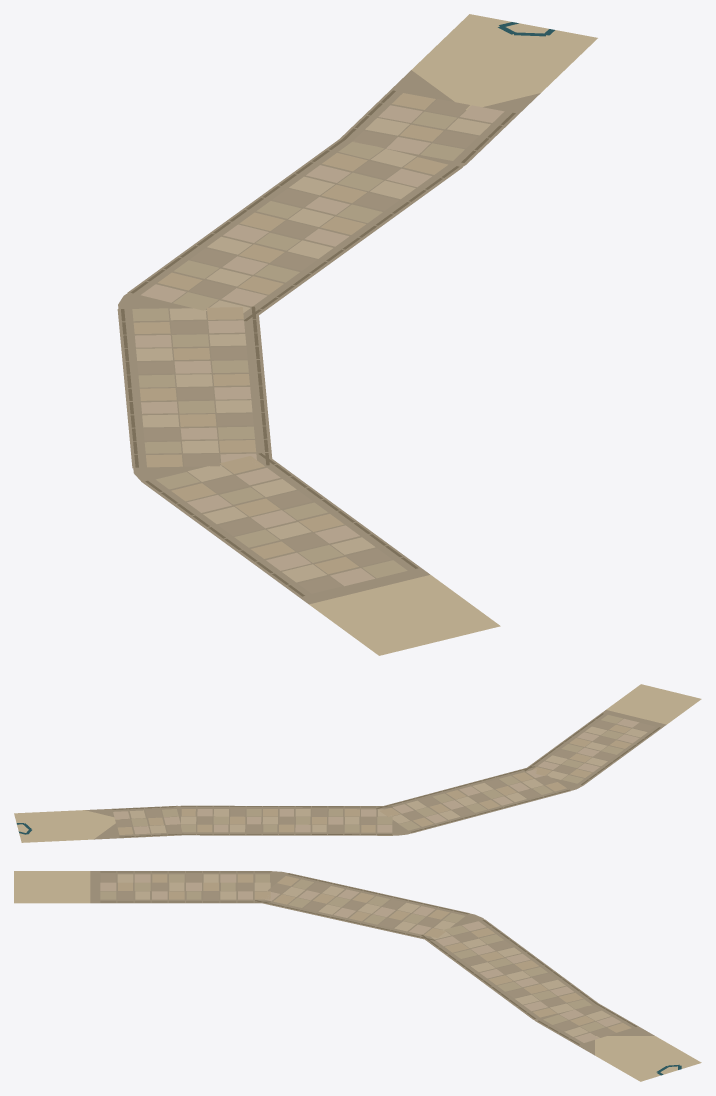
Rendered from route-def-steps_n-walk.glb.
3 views of the same model, one above another, from view 1: azimuth 30°, elevation 25°; view 2: azimuth 150°, elevation 25°; view 3: azimuth 270°, elevation 25° (orthographic). The views are drawn at different scales.
Visible parts, largest first — view 1: Surveyed floor · route-def-steps_n-walk, Water Gate to Jar Steps / #C2AE8D, Water Gate to Jar Steps / #C7B399, Water Gate to Jar Steps / #AE9D84, Water Gate to Jar Steps / #BDAD8E, Water Gate to Jar Steps / #C9B798, Water Gate to Jar Steps / #85775D; view 2: Surveyed floor · route-def-steps_n-walk, Water Gate to Jar Steps / #C7B399, Water Gate to Jar Steps / #C2AE8D, Water Gate to Jar Steps / #BDAD8E, Water Gate to Jar Steps / #AE9D84, Water Gate to Jar Steps / #C9B798, Water Gate to Jar Steps / #85775D; view 3: Surveyed floor · route-def-steps_n-walk, Water Gate to Jar Steps / #C2AE8D, Water Gate to Jar Steps / #C7B399, Water Gate to Jar Steps / #AE9D84, Water Gate to Jar Steps / #BDAD8E, Water Gate to Jar Steps / #C9B798, Water Gate to Jar Steps / #85775D.
Part boxes in pixels (x1,y1,x2,y2): Surveyed floor · route-def-steps_n-walk: (117,14,597,655); Water Gate to Jar Steps / #C2AE8D: (133,93,447,574); Water Gate to Jar Steps / #C7B399: (135,105,504,586); Water Gate to Jar Steps / #AE9D84: (137,99,477,593); Water Gate to Jar Steps / #BDAD8E: (132,111,464,578); Water Gate to Jar Steps / #C9B798: (136,118,490,582); Water Gate to Jar Steps / #85775D: (121,90,515,596); Surveyed floor · route-def-steps_n-walk: (14,684,701,842); Water Gate to Jar Steps / #C7B399: (113,718,639,834); Water Gate to Jar Steps / #C2AE8D: (117,724,631,834); Water Gate to Jar Steps / #BDAD8E: (131,715,623,832); Water Gate to Jar Steps / #AE9D84: (115,720,654,832); Water Gate to Jar Steps / #C9B798: (129,726,647,833); Water Gate to Jar Steps / #85775D: (112,713,660,837); Surveyed floor · route-def-steps_n-walk: (14,871,701,1081); Water Gate to Jar Steps / #C2AE8D: (118,874,631,1032); Water Gate to Jar Steps / #C7B399: (100,874,621,1042); Water Gate to Jar Steps / #AE9D84: (101,874,615,1037); Water Gate to Jar Steps / #BDAD8E: (100,874,604,1031); Water Gate to Jar Steps / #C9B798: (117,874,610,1036); Water Gate to Jar Steps / #85775D: (100,871,636,1044).
Size of the model in its own units: 52.37 by 0.026 by 72.23.
